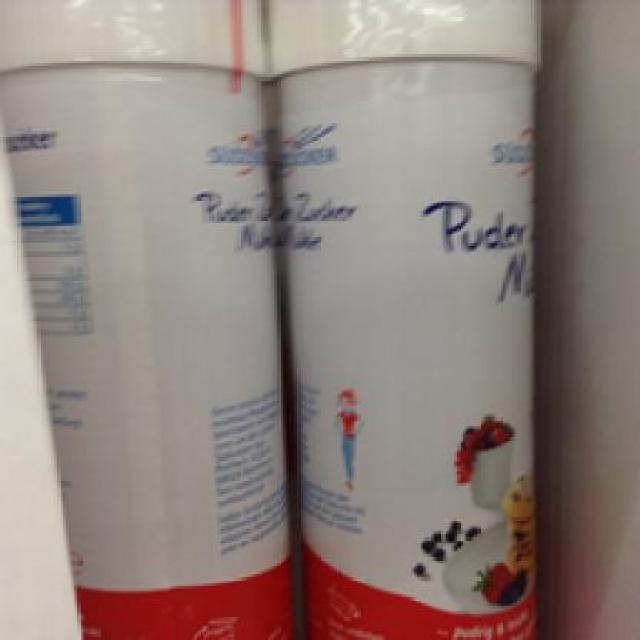Sugar: (0, 0, 289, 637), (263, 0, 540, 637)
